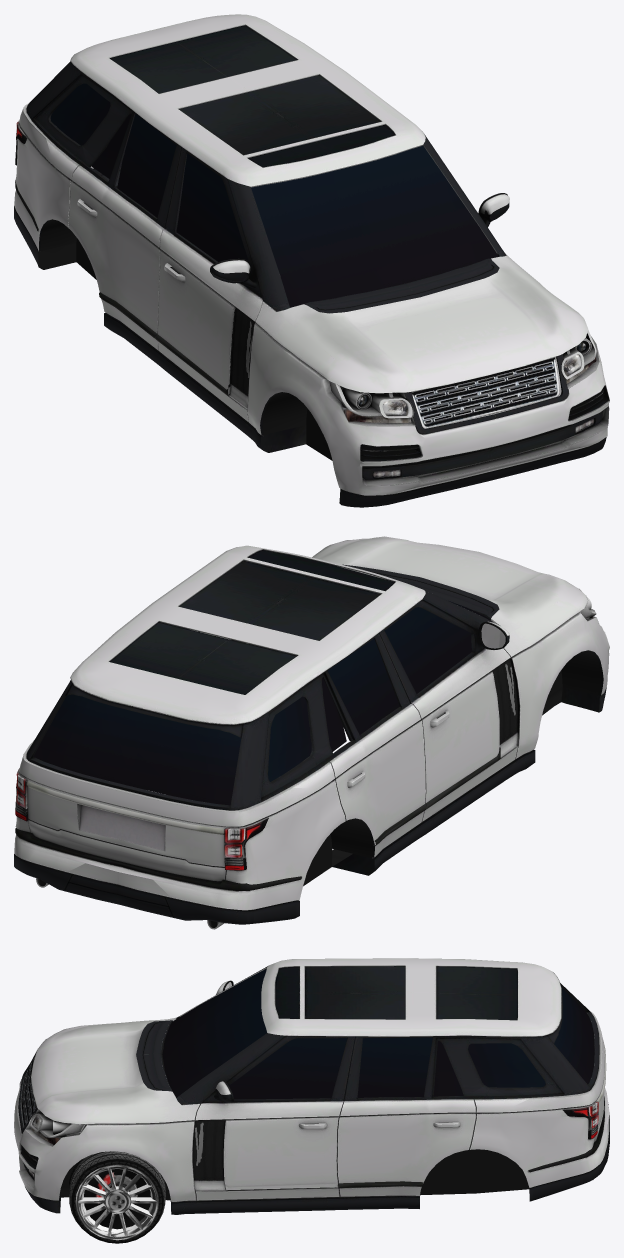
Rendered from prado_autobiography.fbx.
3 renders of one model, top to bottom at view 1: azimuth 30°, elevation 25°; view 2: azimuth 150°, elevation 25°; view 3: azimuth 270°, elevation 25°, orthographic. The views are drawn at different scales.
Parts seen in each view (by area): view 1: Body; view 2: Body; view 3: Body, wheel.003, Rim.
Boxes of the visible parts, x1,y1,x2,y2 form: Body: [14, 14, 609, 507]; Body: [14, 536, 609, 929]; Body: [14, 958, 609, 1214]; wheel.003: [69, 1151, 165, 1243]; Rim: [84, 1169, 150, 1229].
Bounding box in the file's own units: 407 × 334 × 903.
